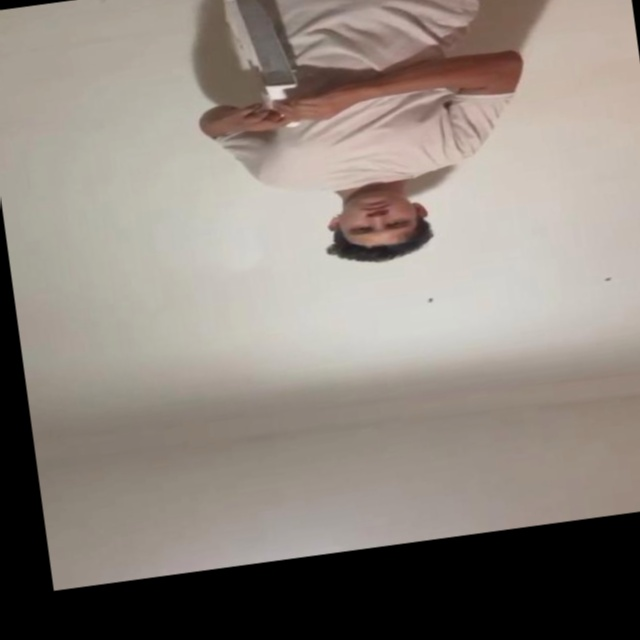Sharp-Object: (231, 0, 296, 89)
